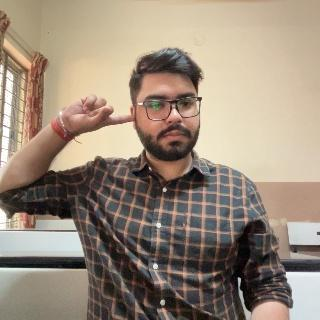Deaf: (57, 94, 135, 134)
Face: (133, 48, 200, 160)
